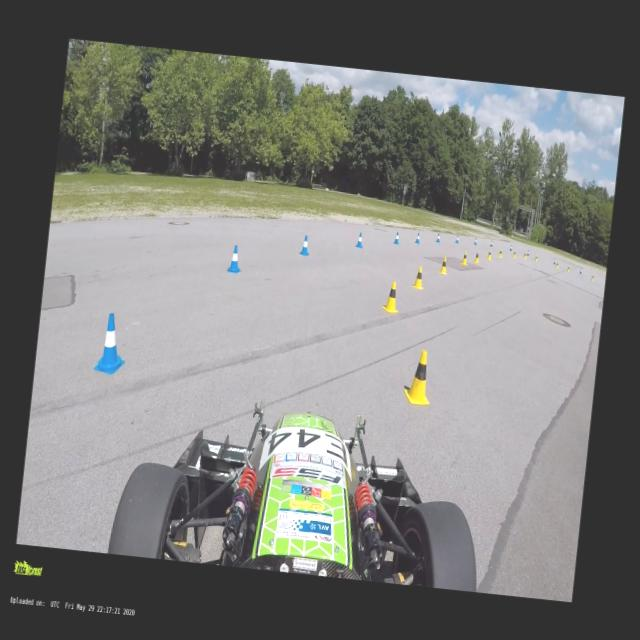blue_cone: (95, 313, 128, 374), (227, 245, 242, 272), (299, 234, 311, 256), (354, 231, 364, 248), (392, 231, 400, 245), (414, 232, 421, 245), (434, 233, 440, 243), (488, 240, 494, 248), (472, 237, 477, 245), (454, 235, 458, 244), (578, 267, 582, 275), (508, 244, 512, 251), (526, 250, 530, 256), (552, 258, 556, 264)
yellow_cone: (402, 350, 433, 407), (380, 280, 400, 316), (409, 265, 425, 291), (437, 254, 449, 276), (459, 250, 468, 266), (472, 250, 480, 264), (485, 248, 493, 260), (497, 249, 502, 259), (511, 250, 516, 260), (564, 264, 570, 272), (532, 254, 537, 262), (589, 274, 594, 282), (522, 252, 526, 260), (554, 261, 558, 269)
